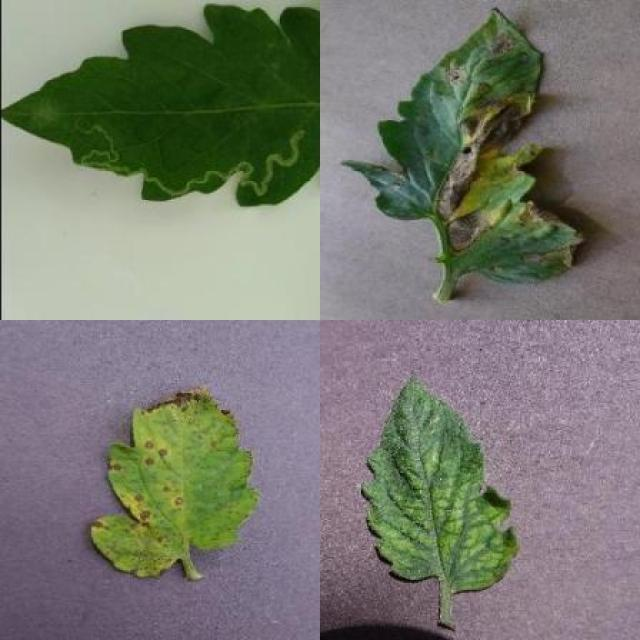Early Blight: (339, 7, 586, 282)
Leaf Miner: (0, 3, 320, 210)
Mosaic Virus: (362, 367, 518, 593)
Septoria: (90, 386, 259, 580)
